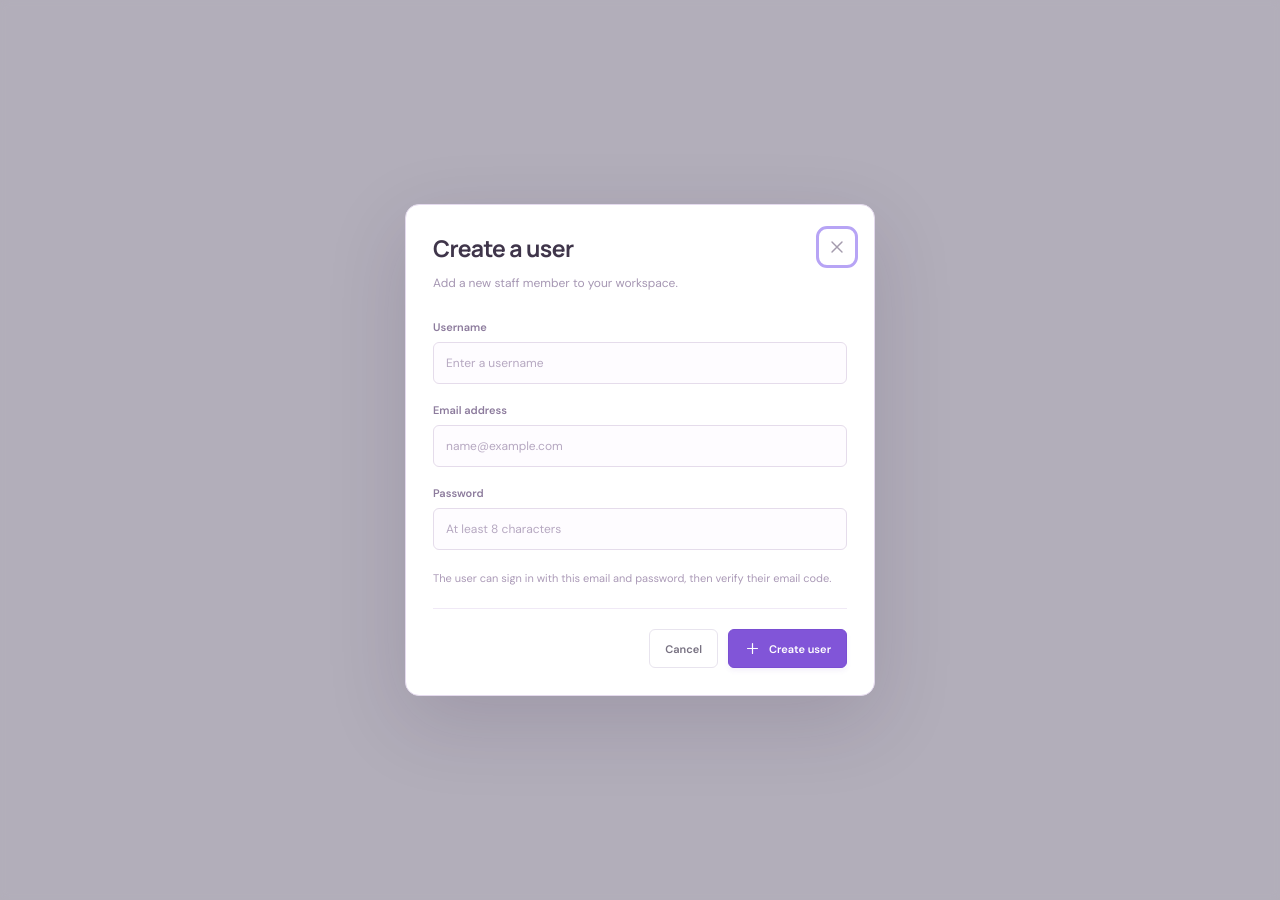
Scenario: admin user creation › shows duplicate-email errors without reporting success
Type "New Staff" into the field labelled "Username" at (640, 363), box [433,342,847,384]
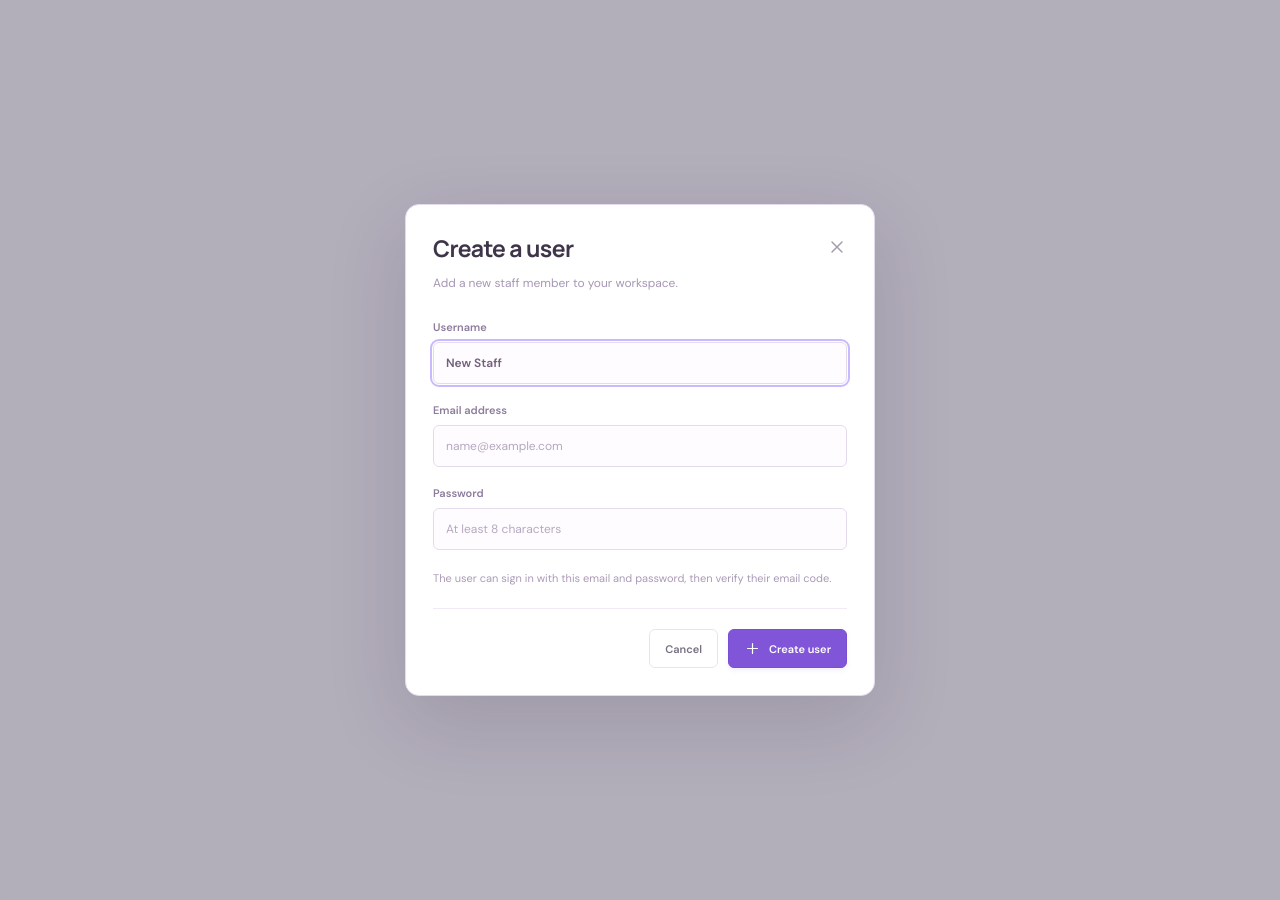
Type "new@example.com" into the field labelled "Email address" at (640, 446), box [433,425,847,467]
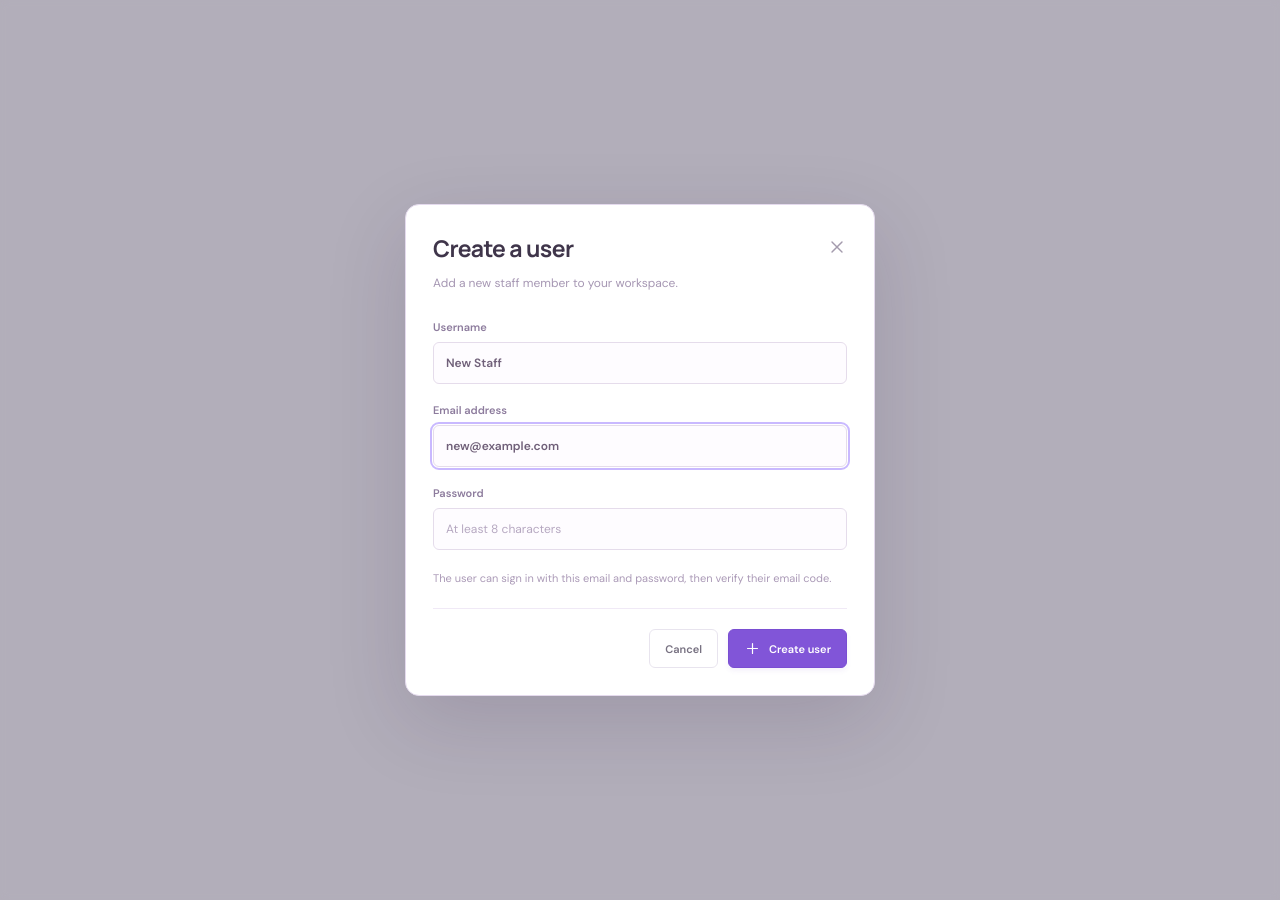
Type "NewPassword123!" into the password field labelled "Password" at (640, 529), box [433,508,847,550]
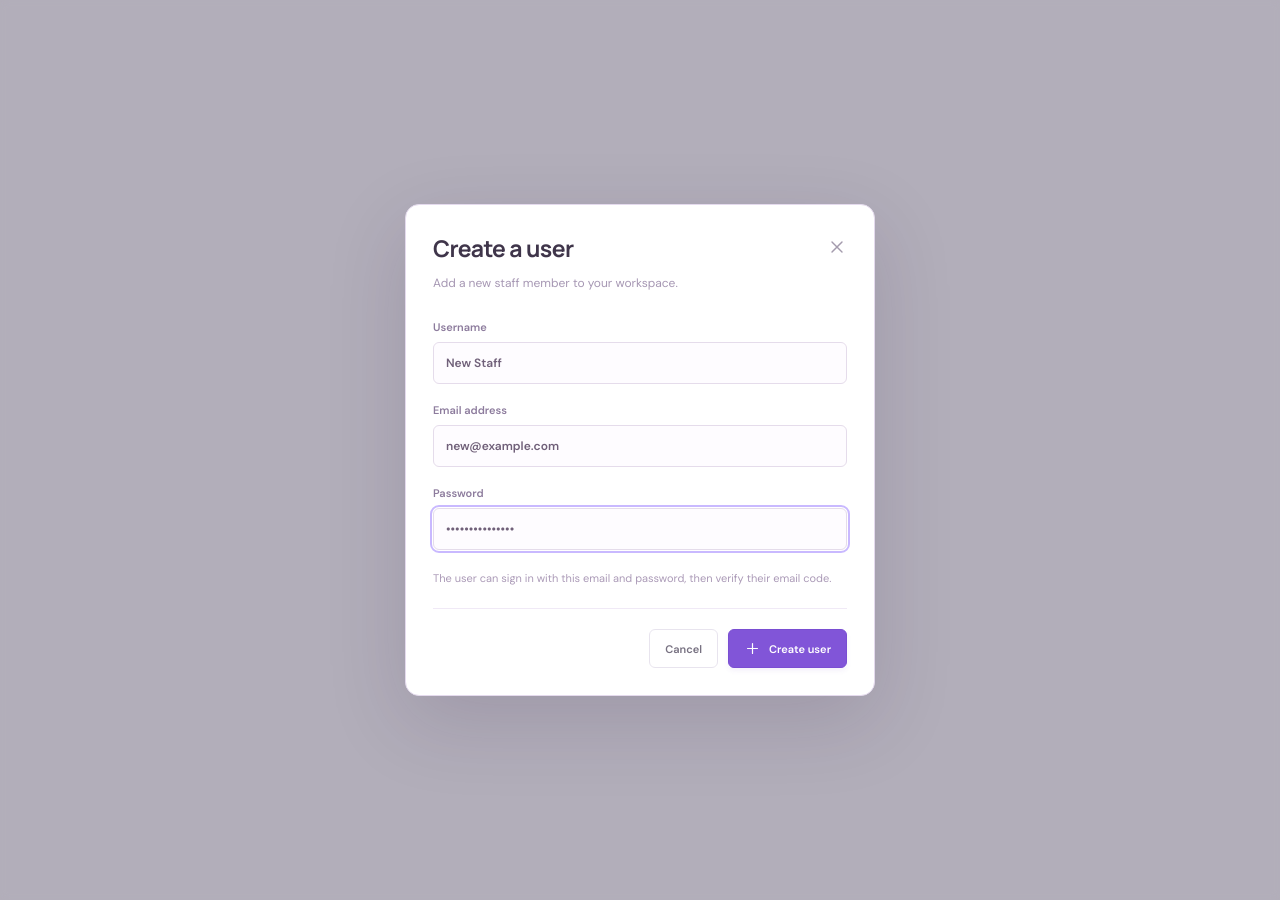
Click the button "Create user" at (788, 649), box [728,629,847,668]
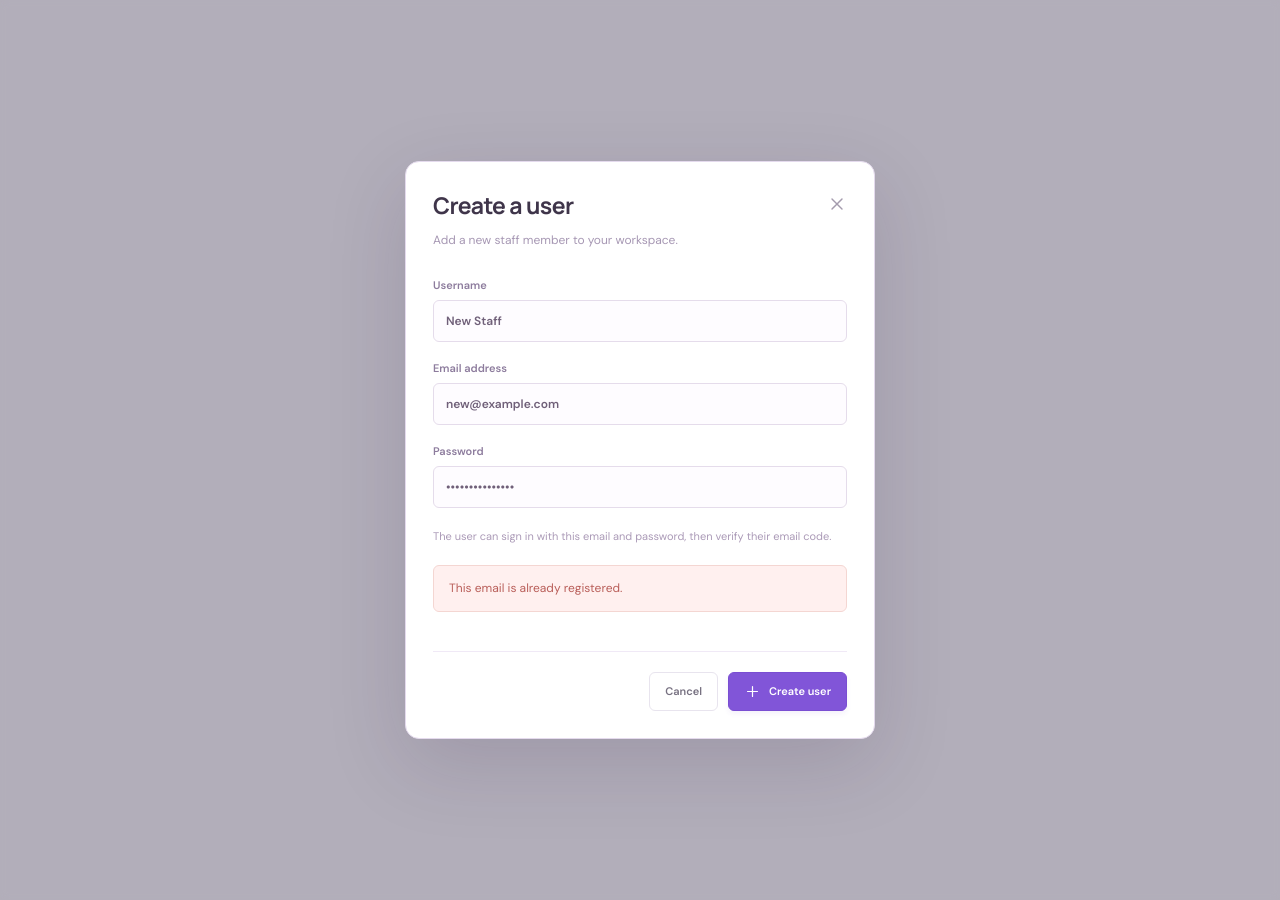
Check: the message reads "This email is already registered.", box [449,580,622,596]
